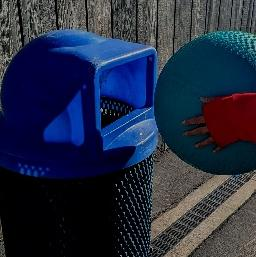algae: (152, 29, 256, 169)
